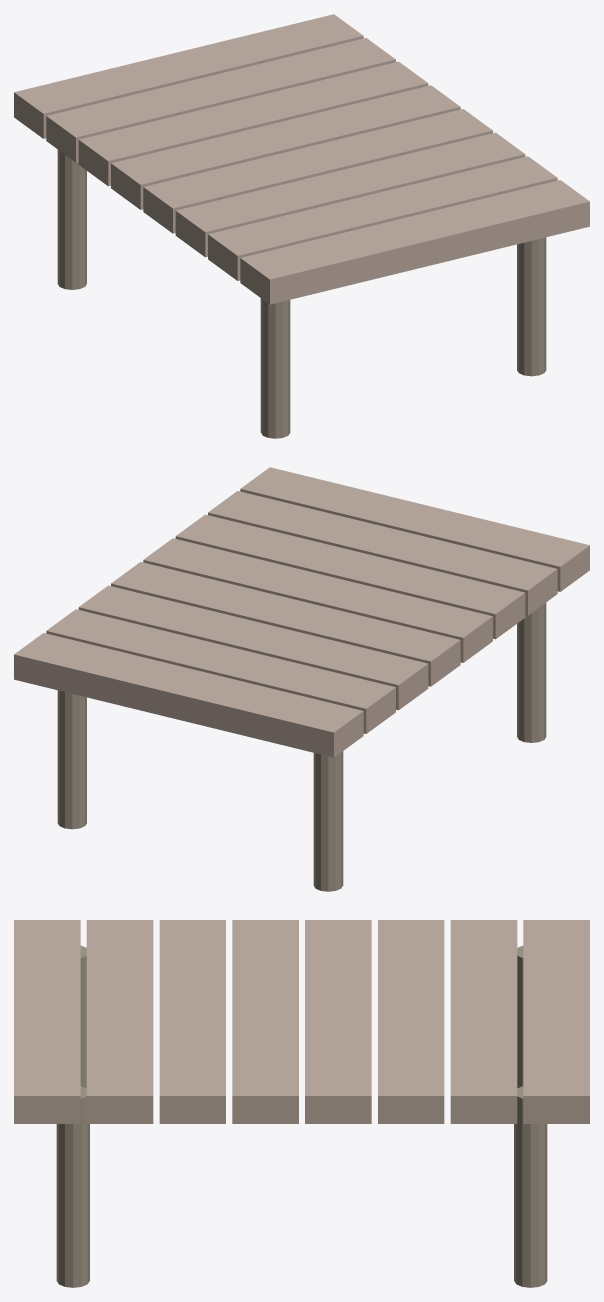
Rendered from wood_pier.glb.
The picture shows the model from 3 angles, top to bottom: view 1: azimuth 30°, elevation 25°; view 2: azimuth 150°, elevation 25°; view 3: azimuth 270°, elevation 25°; orthographic projection. The views are drawn at different scales.
Parts seen in each view (by area): view 1: plank (×8), leg (×3); view 2: plank (×8), leg (×3); view 3: plank (×8), leg (×4).
Part boxes in pixels (<box>): plank (×8): <box>14,14,589,304</box>; leg (×3): <box>57,149,546,438</box>; plank (×8): <box>14,467,589,757</box>; leg (×3): <box>57,602,546,891</box>; plank (×8): <box>14,920,589,1123</box>; leg (×4): <box>56,945,547,1287</box>.
Bounding box in the file's own units: 2 × 1.07 × 2.77.
